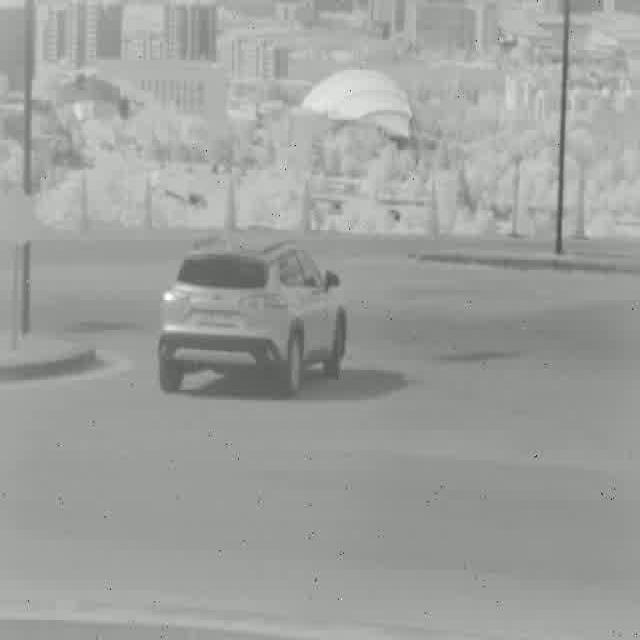Car: (157, 238, 348, 394)
